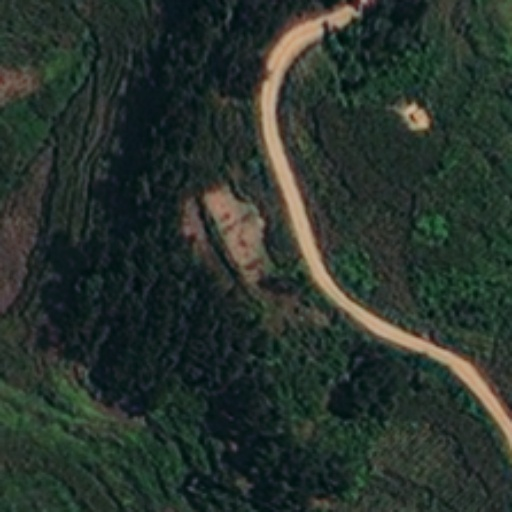landslide: (201, 187, 268, 277)
